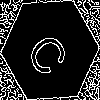C: (25, 25, 77, 80)
